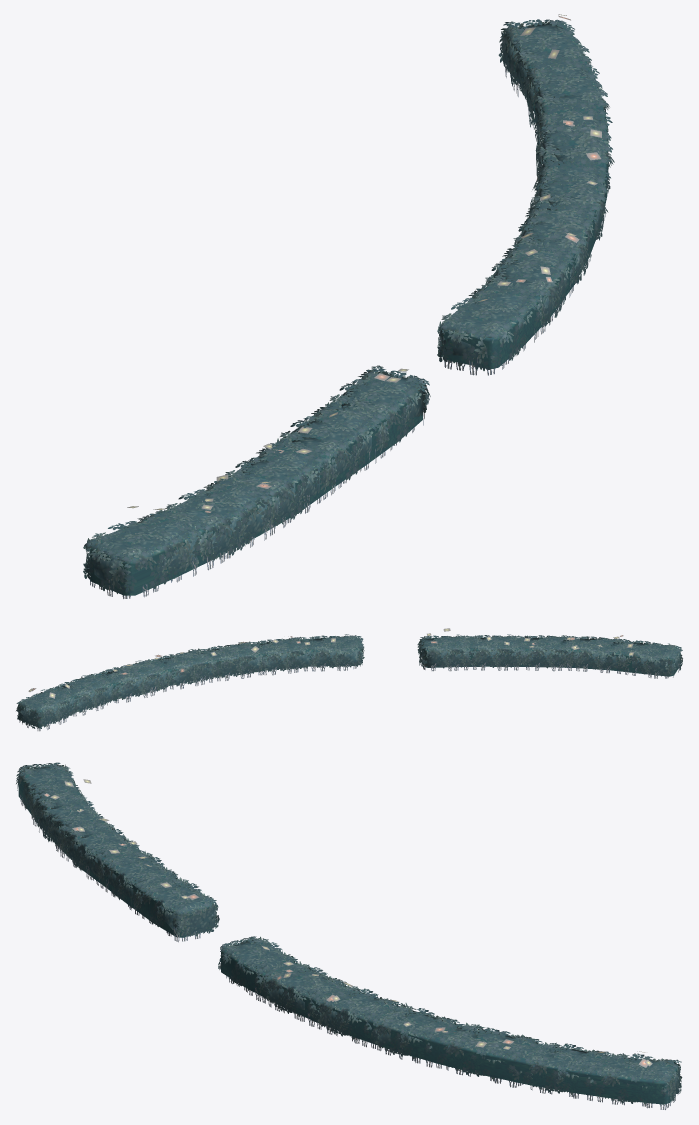
The model's file is pref_sm_beach_winter_techvegetation06_mirror_lv3.fbx.
The picture shows the model from 3 angles, top to bottom: view 1: azimuth 30°, elevation 25°; view 2: azimuth 150°, elevation 25°; view 3: azimuth 270°, elevation 25°; orthographic projection. The views are drawn at different scales.
Visible parts, largest first — view 1: sm_beach_winter_techvegetation06b_lv3, sm_beach_winter_techvegetation06a_lv3, sm_beach_winter_techvegetation06c_lv3; view 2: sm_beach_winter_techvegetation06b_lv3, sm_beach_winter_techvegetation06a_lv3, sm_beach_winter_techvegetation06c_lv3; view 3: sm_beach_winter_techvegetation06b_lv3, sm_beach_winter_techvegetation06a_lv3, sm_beach_winter_techvegetation06c_lv3.
Boxes of the visible parts, <box> form: sm_beach_winter_techvegetation06b_lv3: <box>437,19,614,375</box>; sm_beach_winter_techvegetation06a_lv3: <box>83,365,430,598</box>; sm_beach_winter_techvegetation06c_lv3: <box>127,14,601,512</box>; sm_beach_winter_techvegetation06b_lv3: <box>16,634,364,731</box>; sm_beach_winter_techvegetation06a_lv3: <box>417,634,682,678</box>; sm_beach_winter_techvegetation06c_lv3: <box>28,628,633,698</box>; sm_beach_winter_techvegetation06b_lv3: <box>218,936,682,1109</box>; sm_beach_winter_techvegetation06a_lv3: <box>16,762,219,942</box>; sm_beach_winter_techvegetation06c_lv3: <box>44,779,652,1067</box>.
Bounding box in the file's own units: 36.88 × 2.44 × 32.51.
